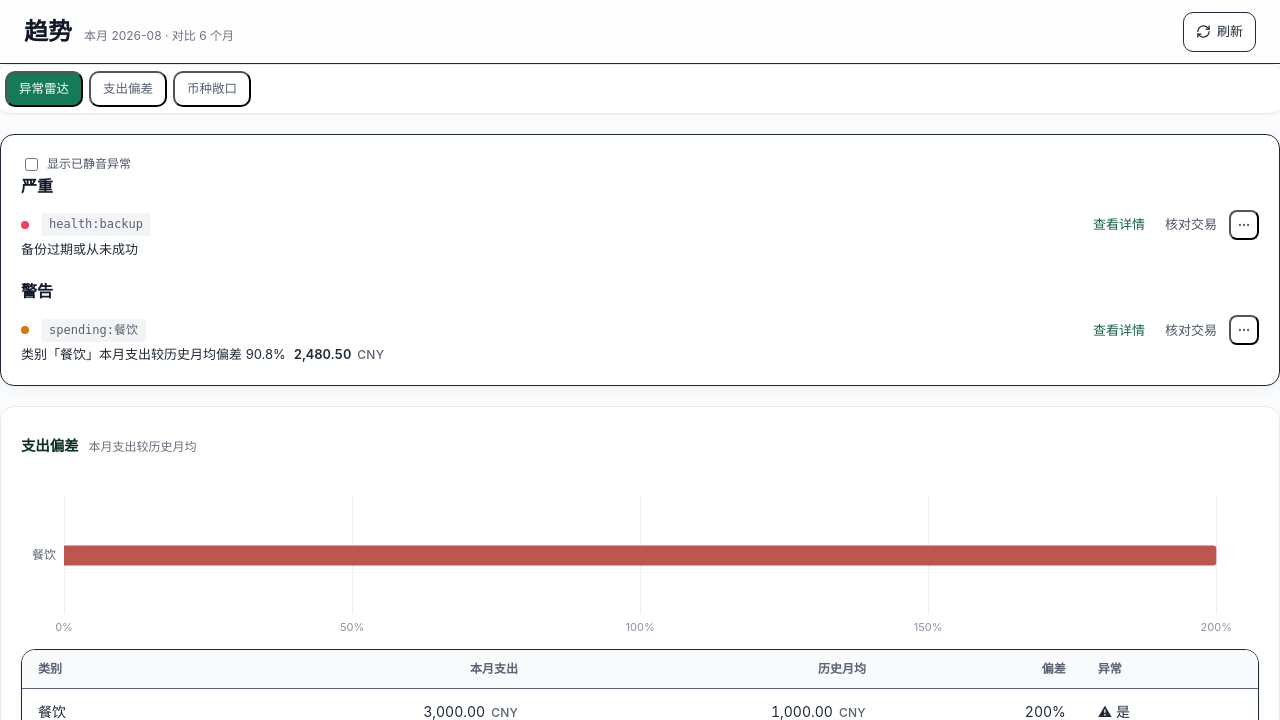
Test: ExceptionRadar integration on Trends › 按严重度分组展示异常流，支持暂不提醒 7 天 -> 勾选显示已静音恢复
Expected: the list named "严重异常" is shown, [21,210,1259,259]
Expected: the heading "严重" is shown, [21,176,53,196]
Click the button named "更多操作" at (1244, 330), box [1229,315,1259,345]
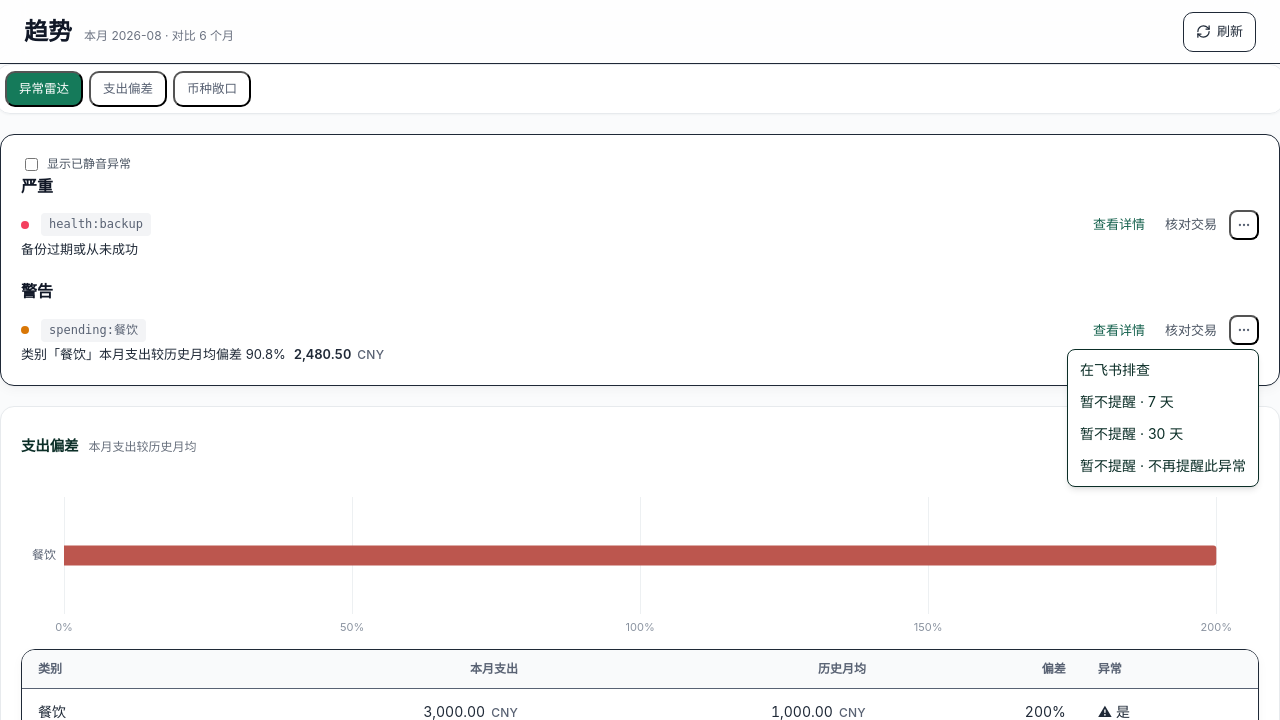
Click the menu item "暂不提醒 · 7 天" at (1127, 402), box [1080,393,1174,410]
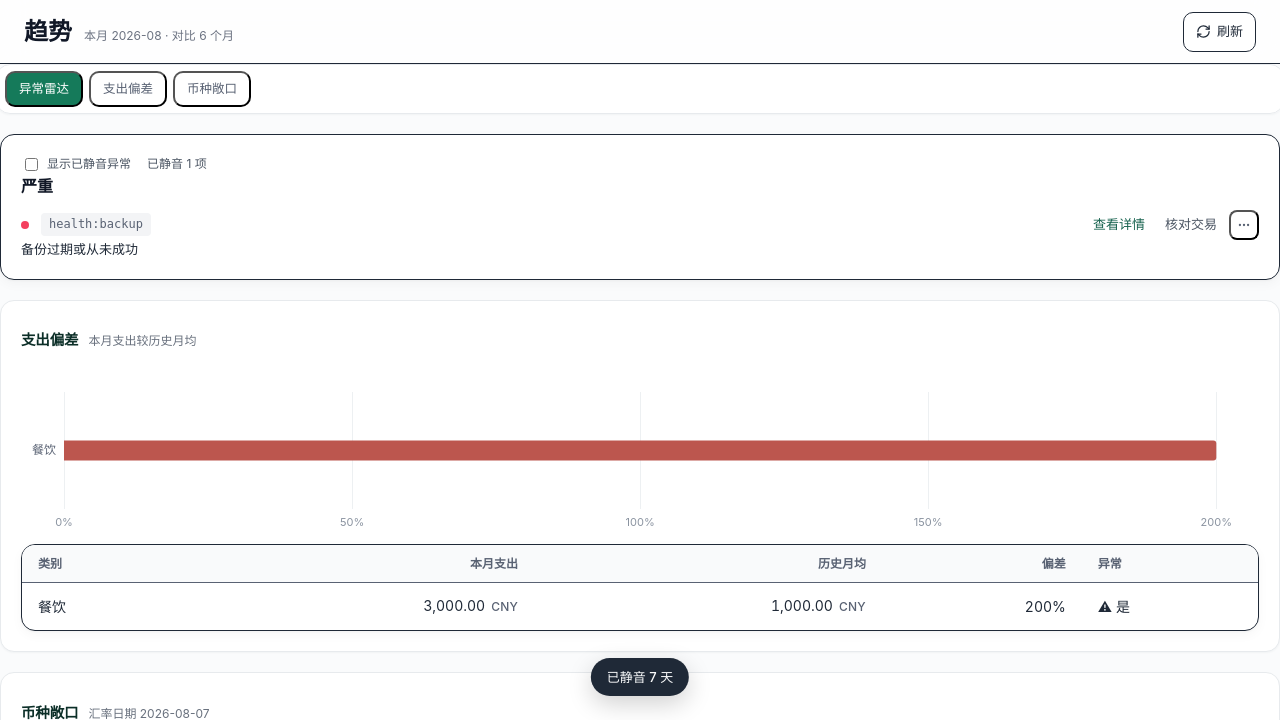
Expected: the text "备份过期或从未成功" is shown, [21,241,138,257]
Expected: the text "类别「餐饮」本月支出较历史月均偏差 90.8%" is gone
Expected: the text "已静音 1 项" is shown, [147,155,207,174]
Note: 勾选"显示已静音异常"恢复可见并带已静音标记
Click the checkbox labelled "显示已静音异常" at (32, 164), box [25,158,38,171]
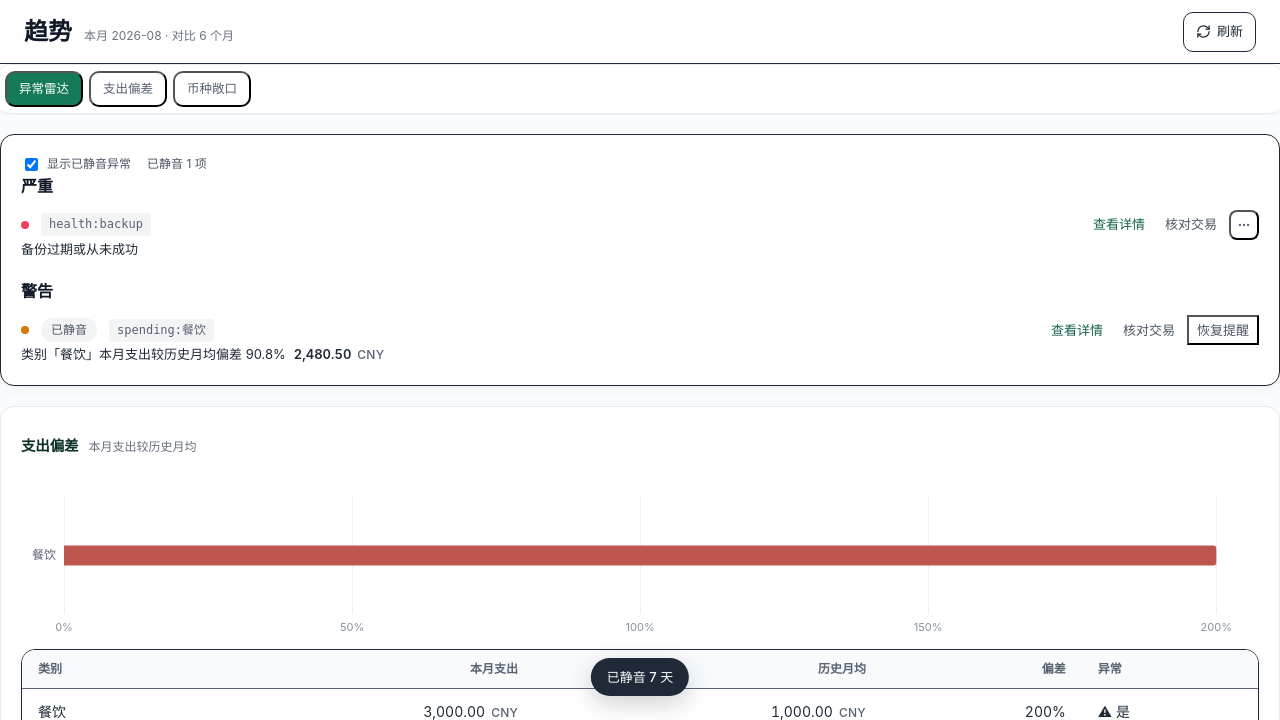
Expected: the text "类别「餐饮」本月支出较历史月均偏差 90.8%" is shown, [21,346,286,362]
Expected: the text "已静音" is shown, [41,318,97,342]
